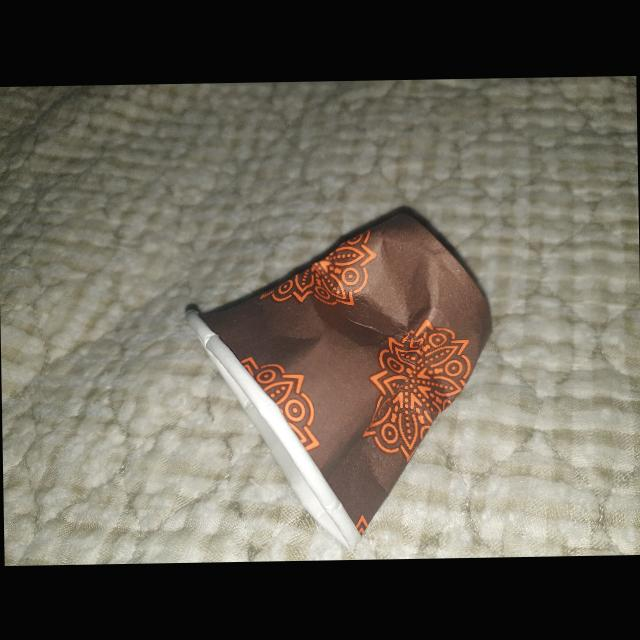trash: (175, 194, 508, 560)
